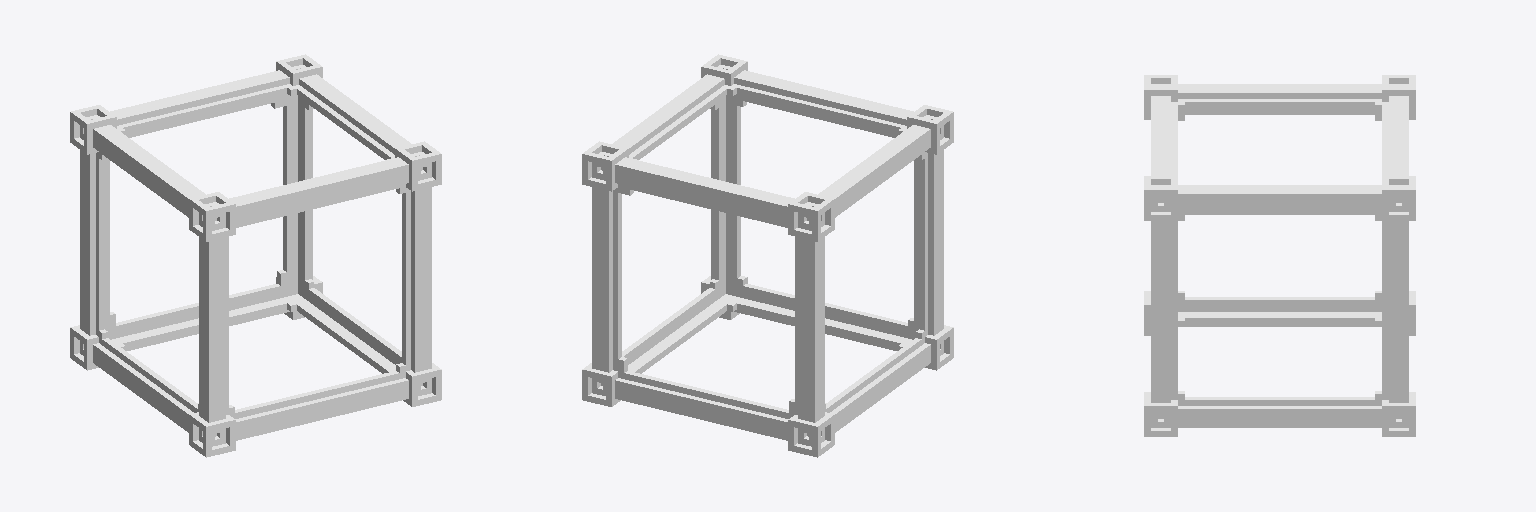
Rendered from cube_rama.obj.
3 renders of one model, left to right at view 1: azimuth 30°, elevation 25°; view 2: azimuth 150°, elevation 25°; view 3: azimuth 270°, elevation 25°, orthographic.
Visible parts, largest first — view 1: object 1; view 2: object 1; view 3: object 1.
Boxes of the visible parts, <box> form: object 1: <box>70,54,441,457</box>; object 1: <box>582,54,953,457</box>; object 1: <box>1144,75,1415,436</box>.
Bounding box in the file's own units: 4 × 4 × 4.